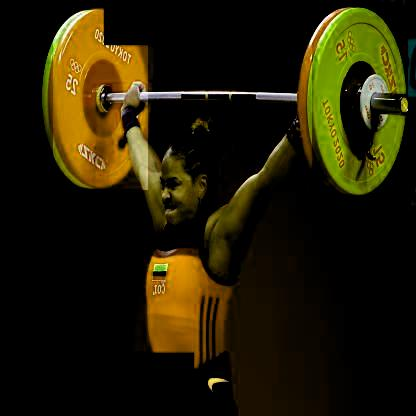barbell: (309, 7, 406, 199), (52, 9, 146, 190)
